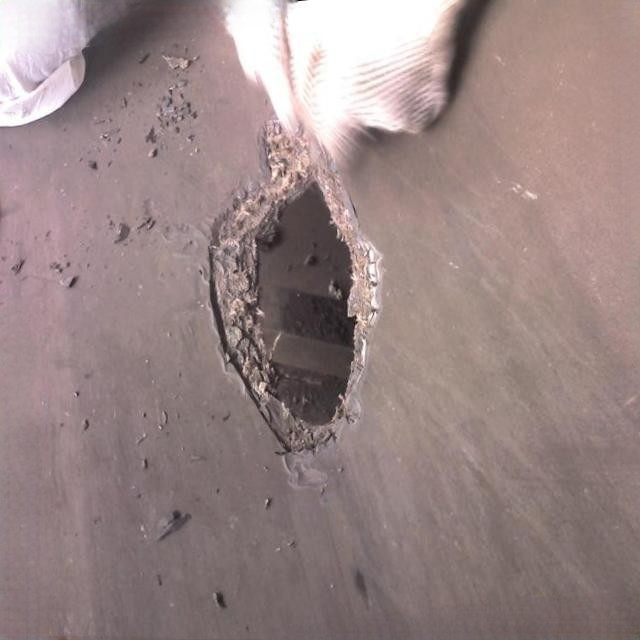Hole: (196, 134, 382, 464)
